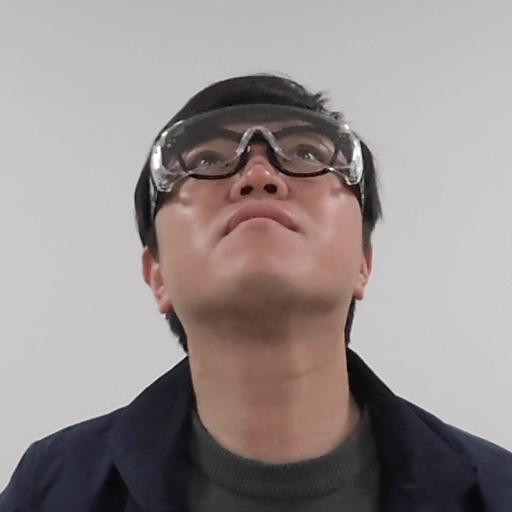glasses: (128, 62, 393, 340)
